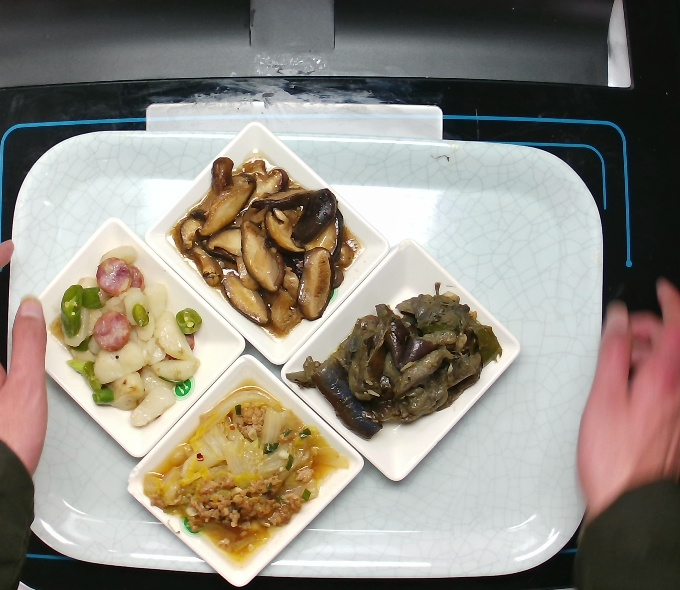wcq-MaTiGuo: (48, 240, 211, 436)
wcq-MoGu: (167, 150, 361, 345)
wcq-QieZi: (281, 274, 506, 437)
wcq-RouMoBaiCai: (136, 378, 349, 572)
